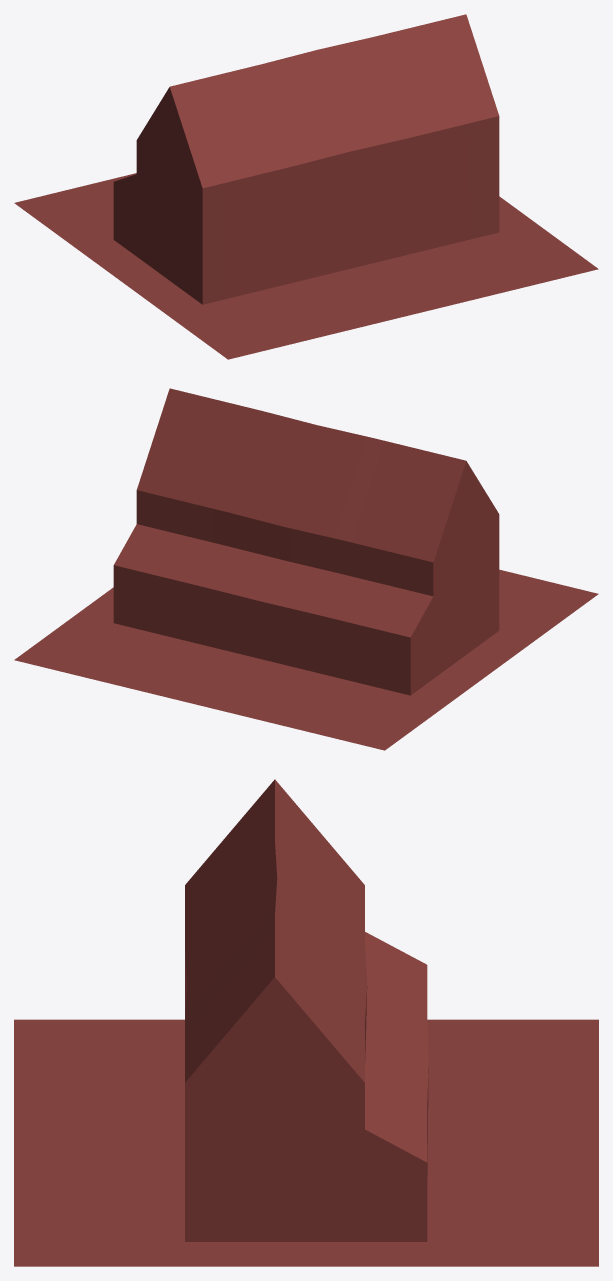
Rendered from 2x2 Building.001.fbx.
3 renders of one model, top to bottom at view 1: azimuth 30°, elevation 25°; view 2: azimuth 150°, elevation 25°; view 3: azimuth 270°, elevation 25°, orthographic. The views are drawn at different scales.
Parts seen in each view (by area): view 1: 2x2 Building.001; view 2: 2x2 Building.001; view 3: 2x2 Building.001.
Part boxes in pixels (x1,y1,x2,y2): 2x2 Building.001: (14, 14, 598, 359); 2x2 Building.001: (14, 388, 598, 750); 2x2 Building.001: (14, 779, 598, 1266).
Bounding box in the file's own units: 2 × 1 × 2.
